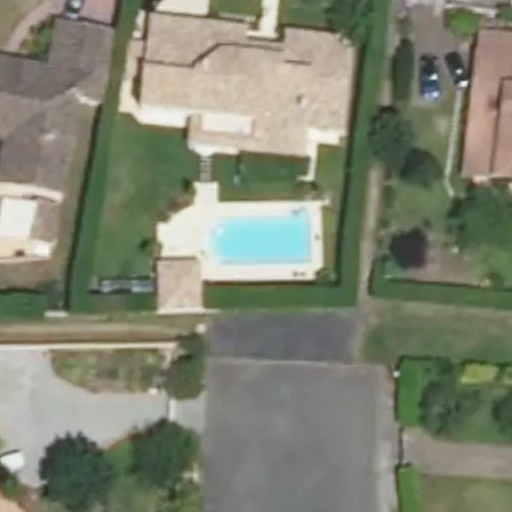pool: (217, 207, 312, 264)
